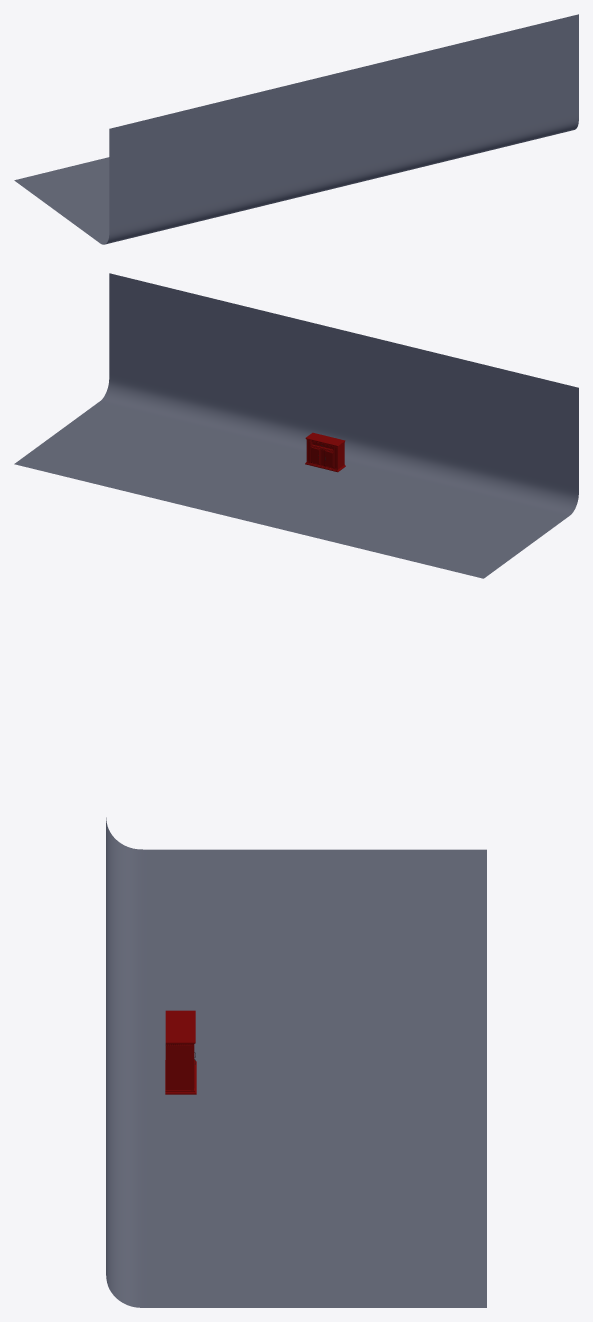
The model's file is Wooden cabinet.FBX.
3 views of the same model, one above another, from view 1: azimuth 30°, elevation 25°; view 2: azimuth 150°, elevation 25°; view 3: azimuth 270°, elevation 25° (orthographic). The views are drawn at different scales.
Parts seen in each view (by area): view 1: BG; view 2: BG; view 3: BG, Wood03, Wood22.
Part boxes in pixels (box(x1,y1,x2,y2)): BG: box(14, 14, 578, 244); BG: box(14, 273, 578, 578); BG: box(106, 817, 486, 1307); Wood03: box(165, 1045, 190, 1090); Wood22: box(165, 1010, 195, 1043).
Size of the model in its own units: 2481 by 612 by 872.
